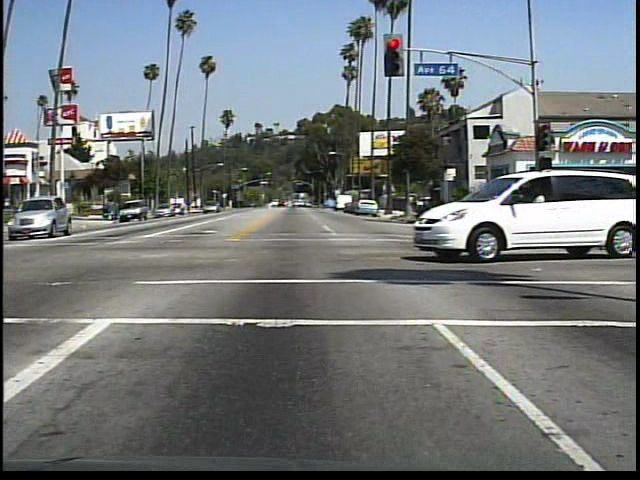person: (537, 186, 562, 236)
